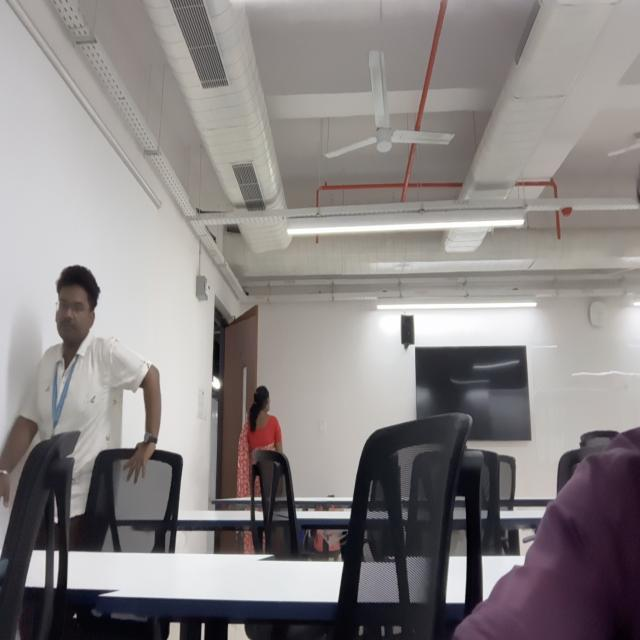sai: (50, 260, 101, 348)
